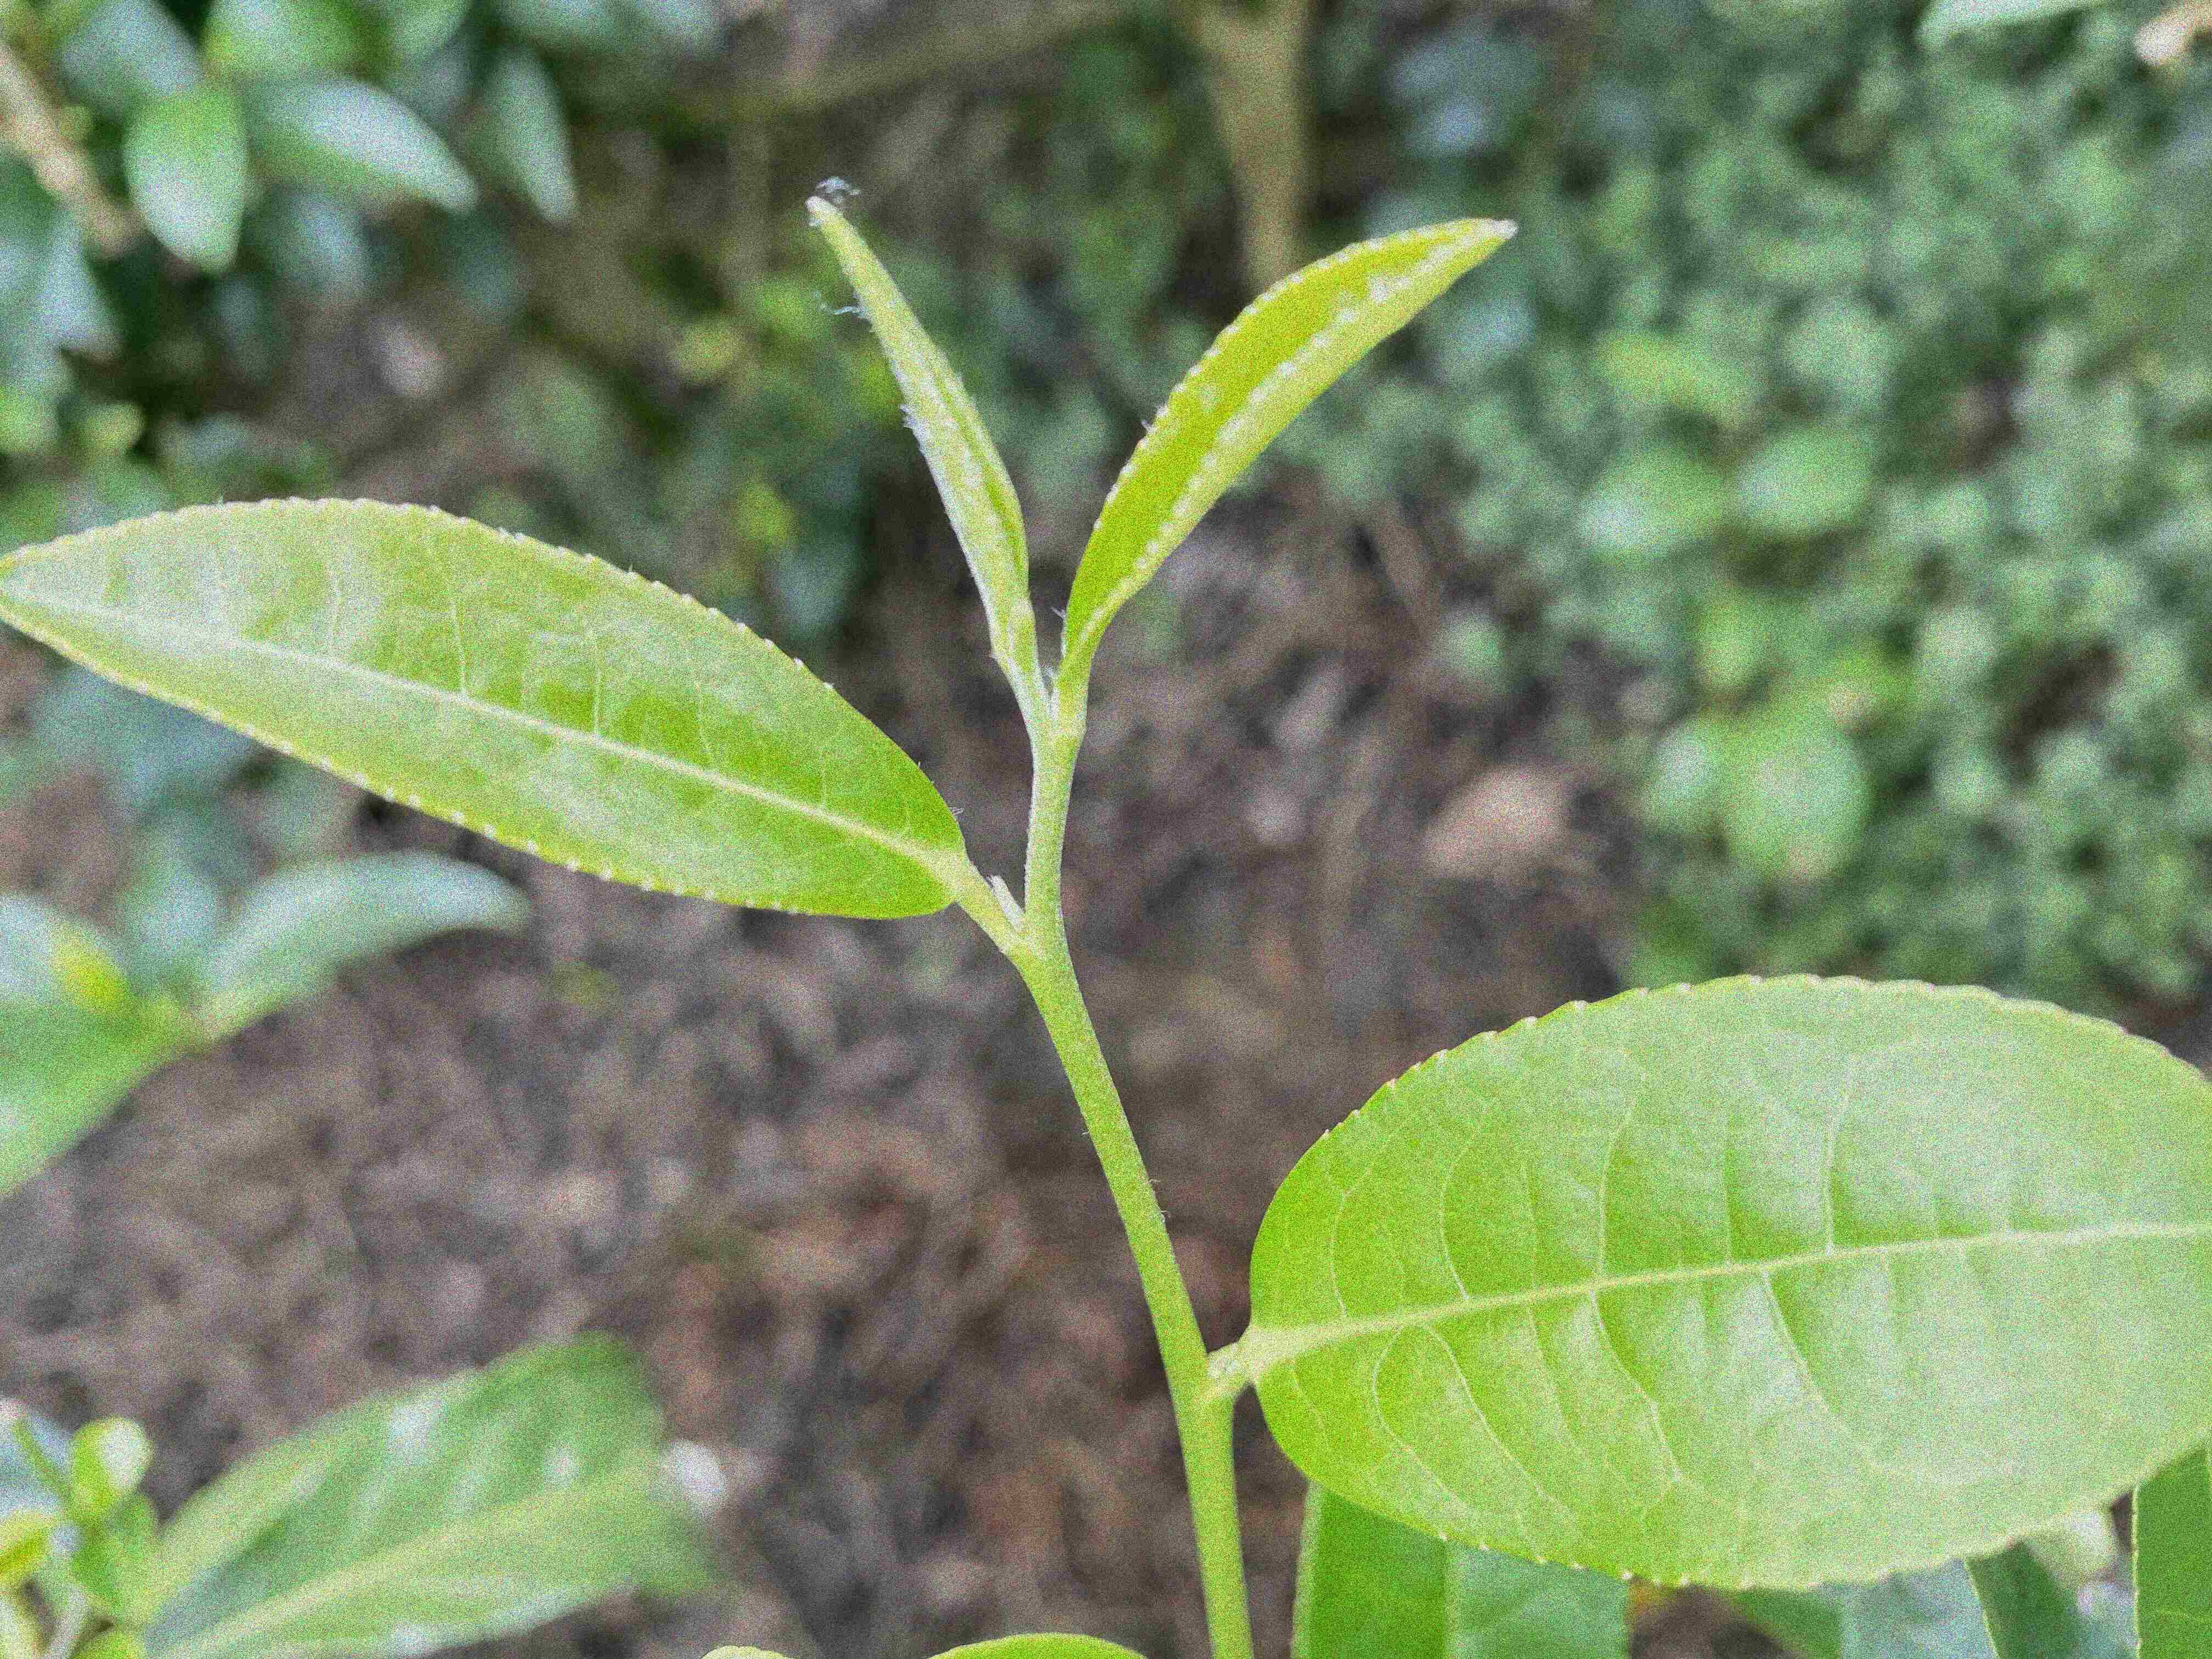healthy: (1247, 969, 2212, 1595), (2, 491, 974, 920)
